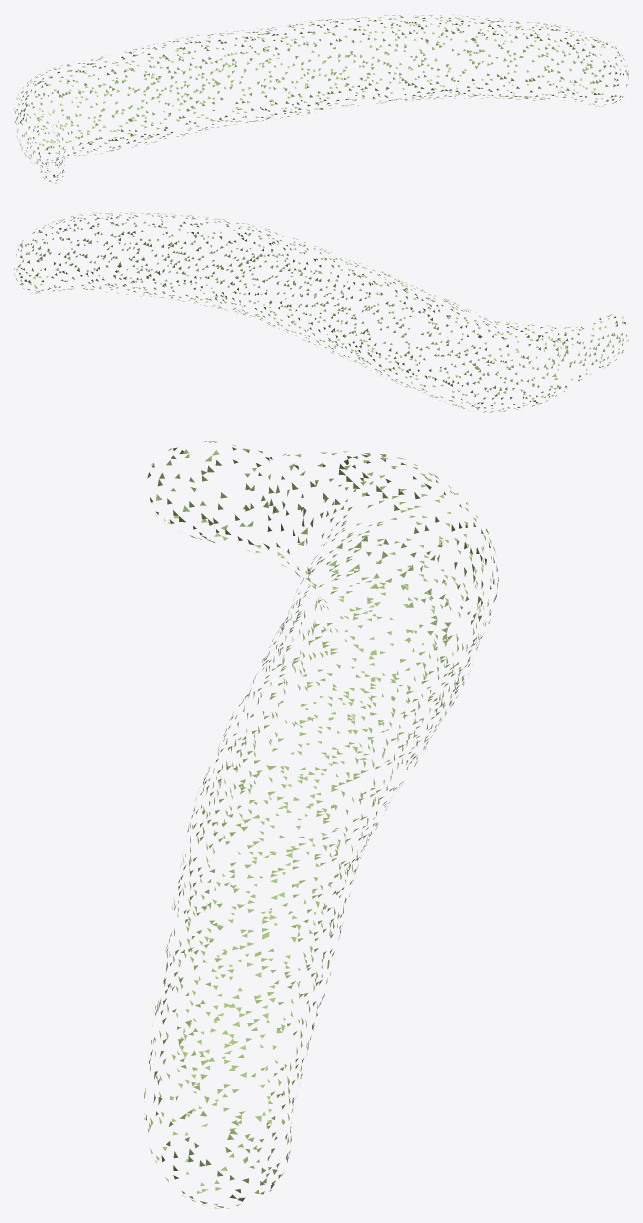
Rendered from morph_012.glb.
3 views of the same model, one above another, from view 1: azimuth 30°, elevation 25°; view 2: azimuth 150°, elevation 25°; view 3: azimuth 270°, elevation 25° (orthographic). The views are drawn at different scales.
Bounding box in the file's own units: 133 × 27.7 × 34.7.
